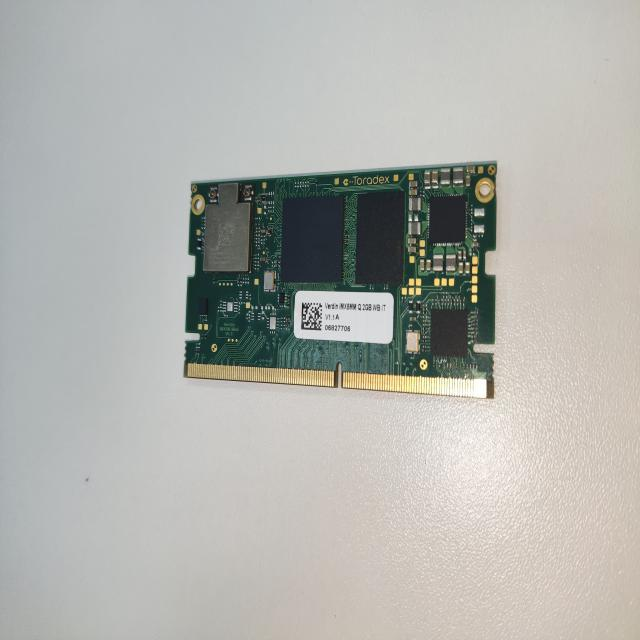som: (179, 154, 504, 402)
